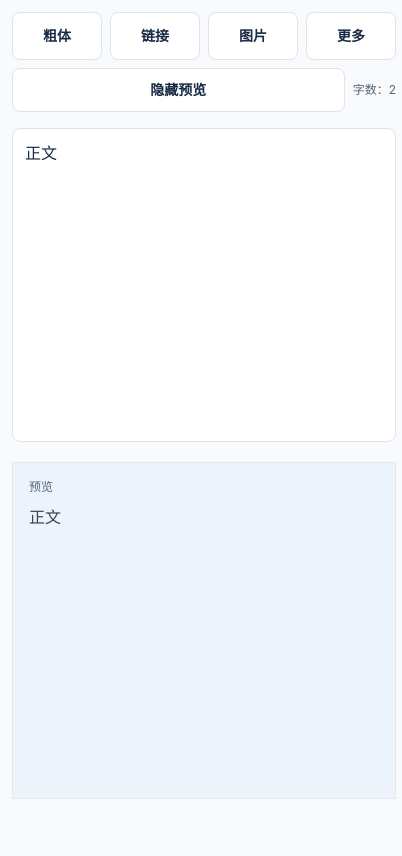
MarkdownTextareaEditor preview defaults › keeps the primary mobile tools compact and progressively reveals other formats
expect the button "粗体" is shown: met, box [12,12,102,60]
expect the button "链接" is shown: met, box [110,12,200,60]
Click the button "更多".
click(351, 36)  # box [306,12,396,60]
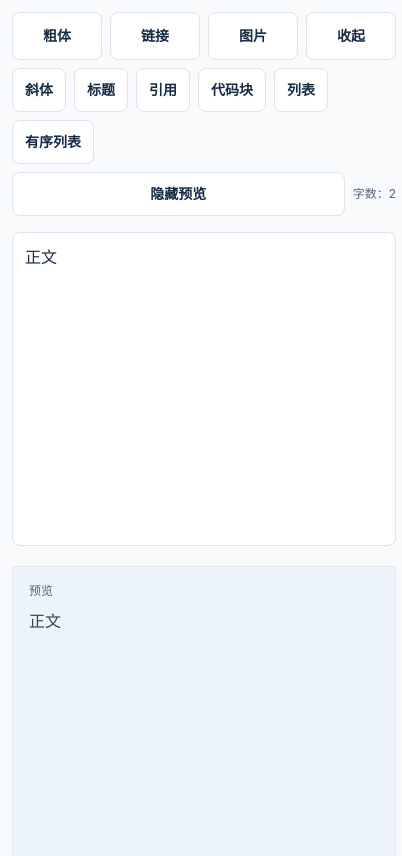
expect the button "收起" is expanded: met, box [306,12,396,60]
expect the text "斜体" is shown: met, box [12,68,66,112]
